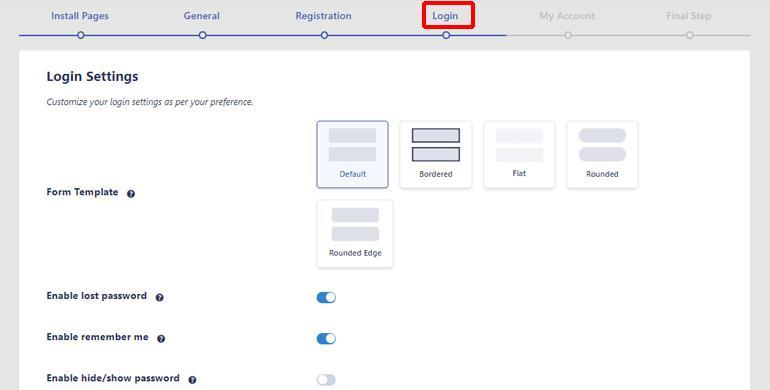icon: (154, 292, 165, 306), (155, 334, 167, 346), (126, 190, 136, 199), (189, 376, 198, 385)
label: (43, 288, 151, 307), (46, 371, 181, 386), (46, 328, 152, 346), (44, 70, 145, 88), (44, 188, 121, 200)
switch: (314, 288, 340, 307), (315, 374, 340, 389), (316, 332, 338, 346)
